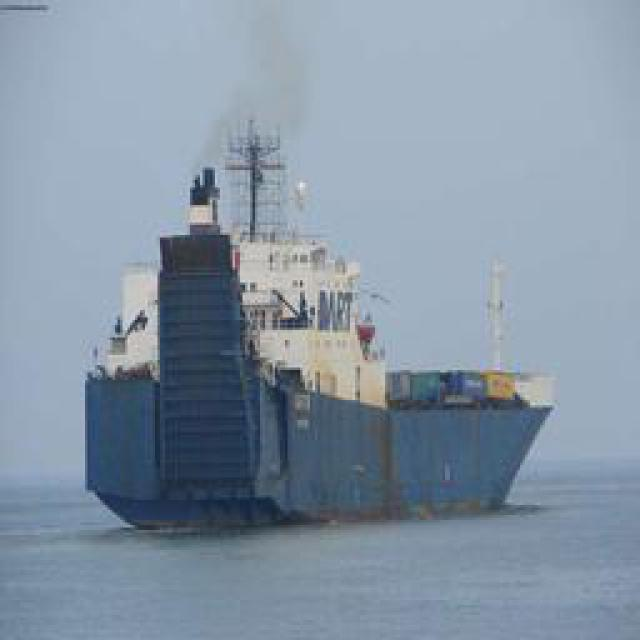Ship: (76, 111, 541, 526)
